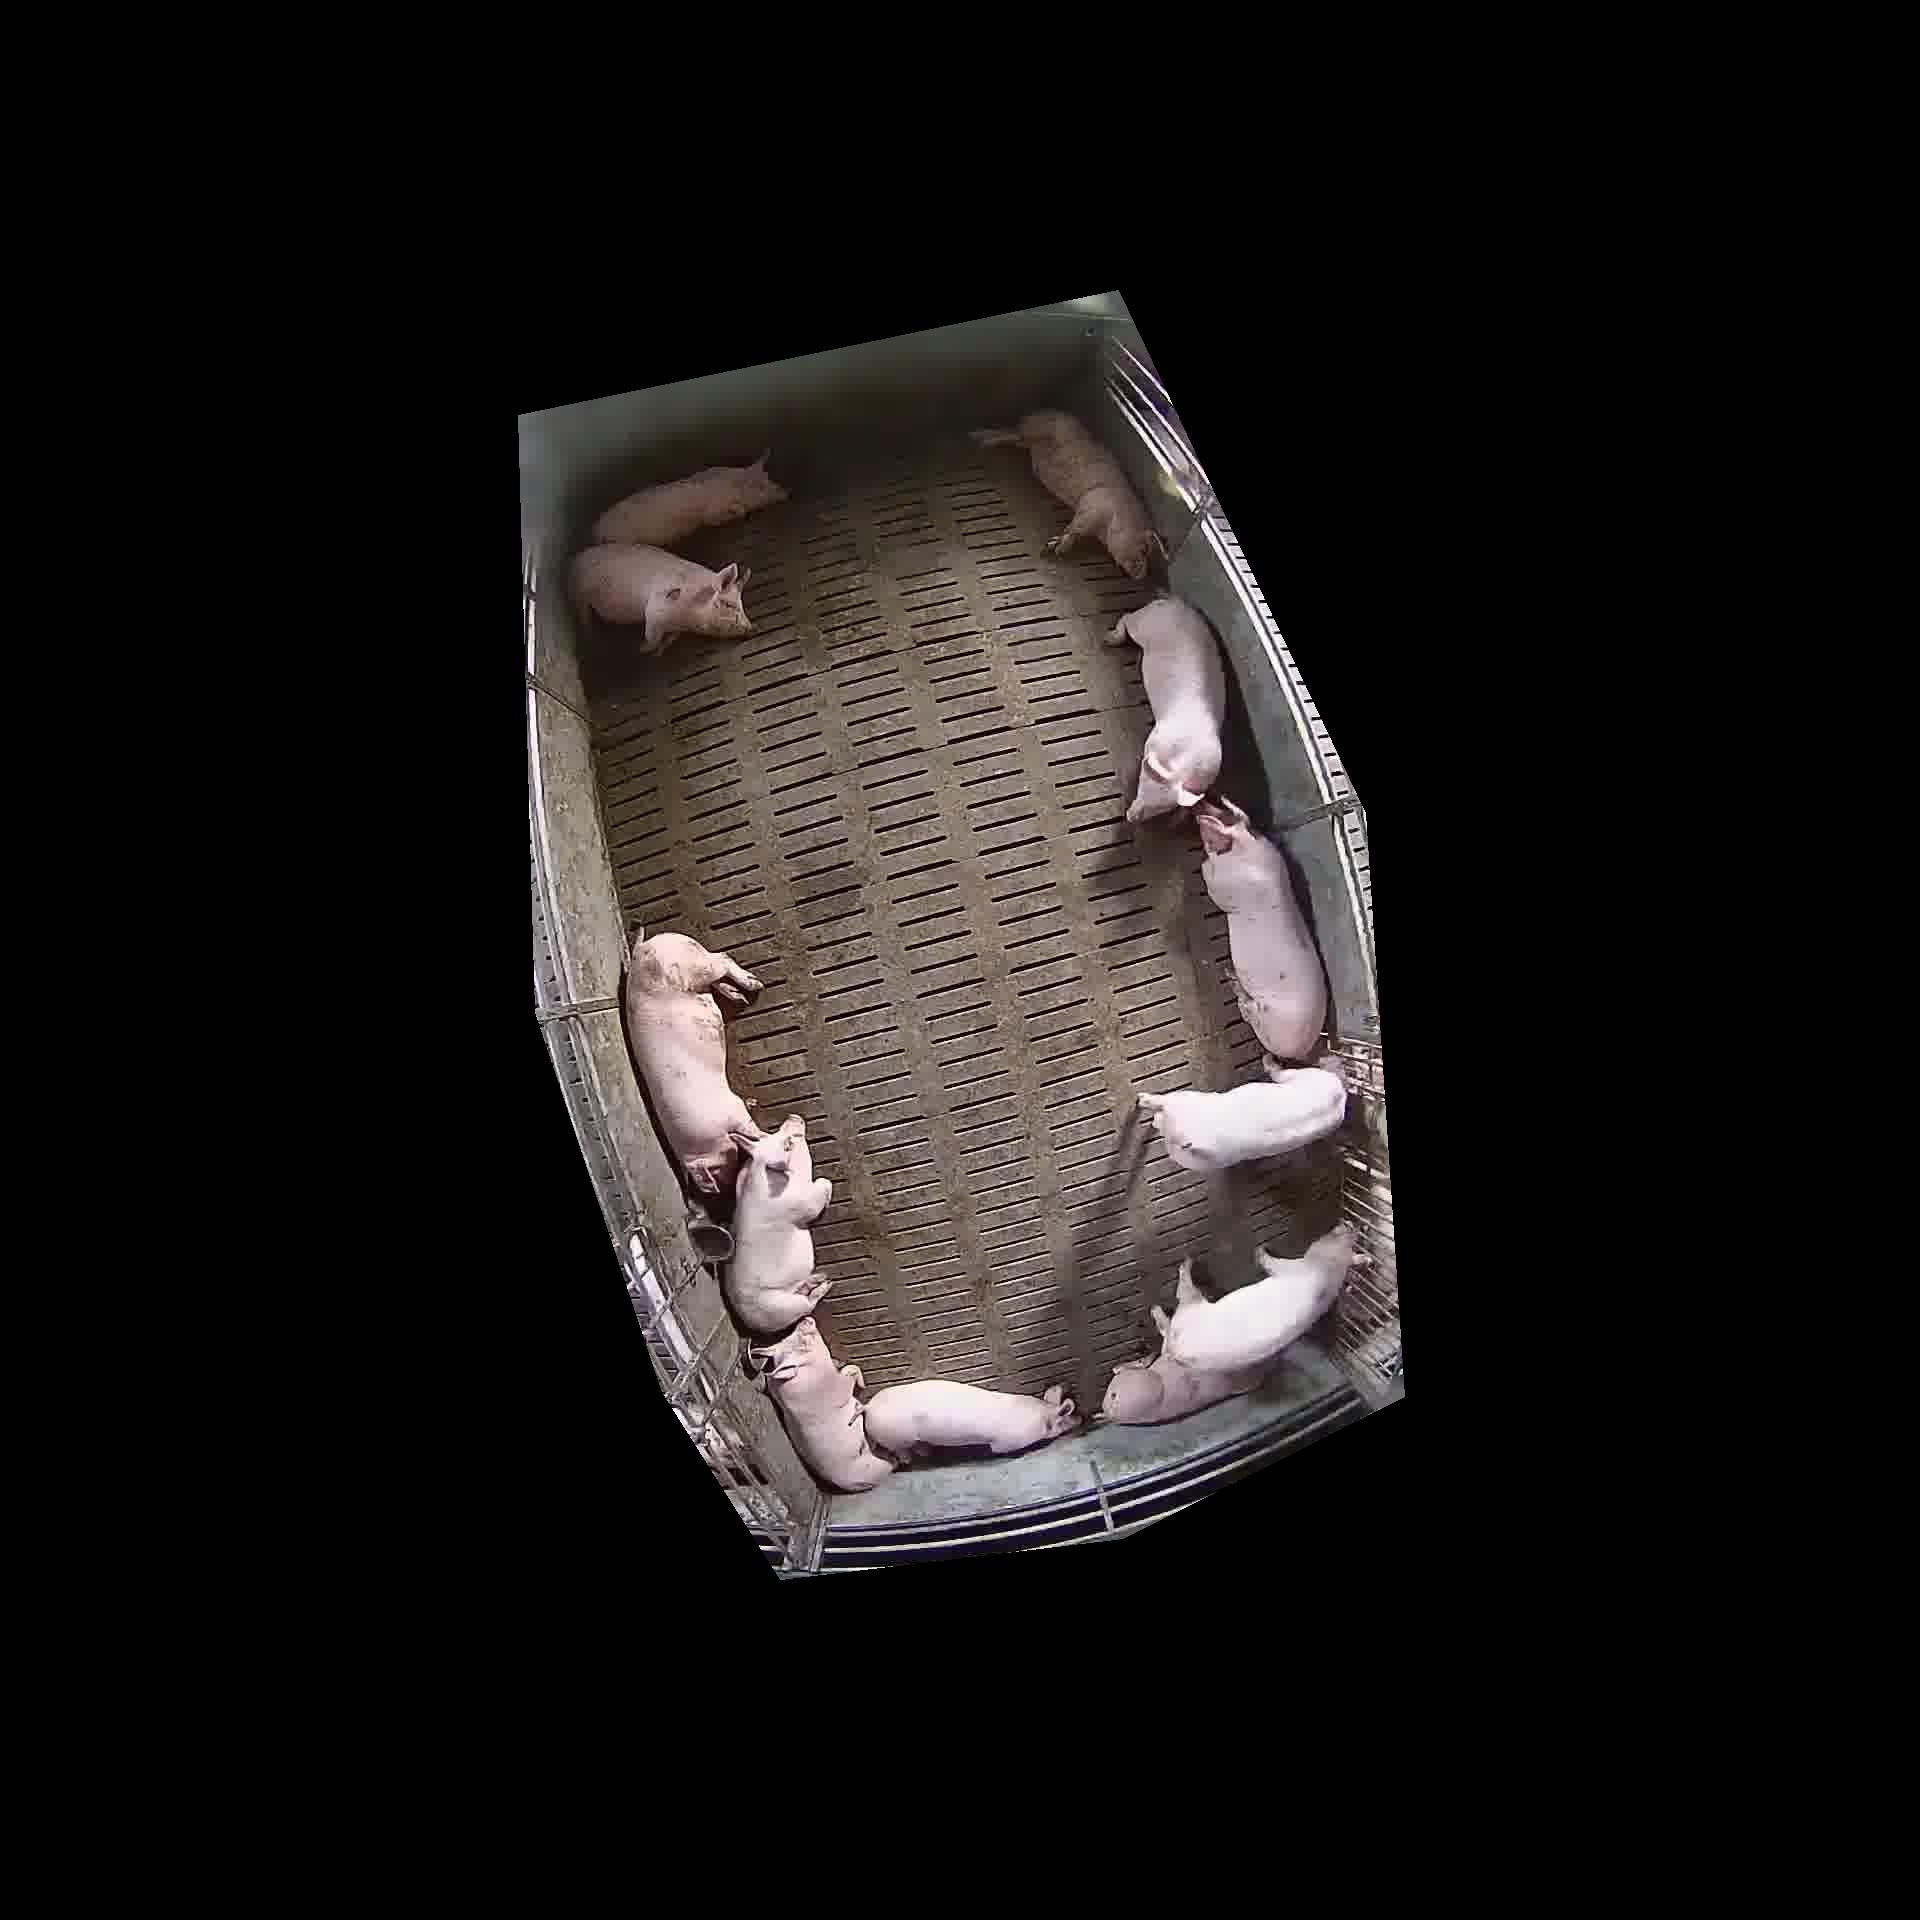pig: (624, 932, 760, 1194), (1194, 798, 1327, 1058), (972, 410, 1160, 578), (1152, 1224, 1363, 1364), (1106, 596, 1225, 821), (749, 1317, 893, 1491), (724, 1115, 832, 1335), (1138, 1067, 1347, 1169), (570, 543, 751, 652), (593, 452, 786, 547), (863, 1380, 1080, 1463), (1101, 1352, 1261, 1422)
